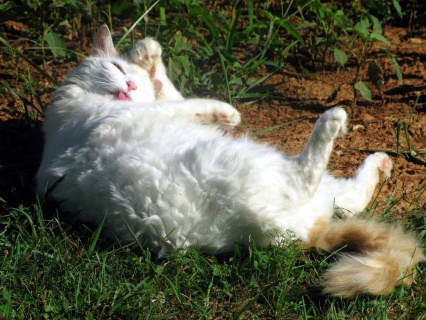Cat: (36, 21, 425, 294)
